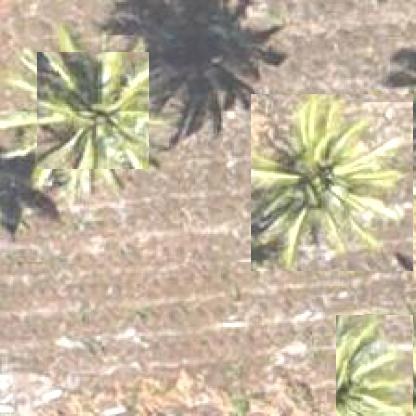coconut tree: (251, 93, 414, 271), (37, 51, 150, 169), (336, 314, 415, 415)
